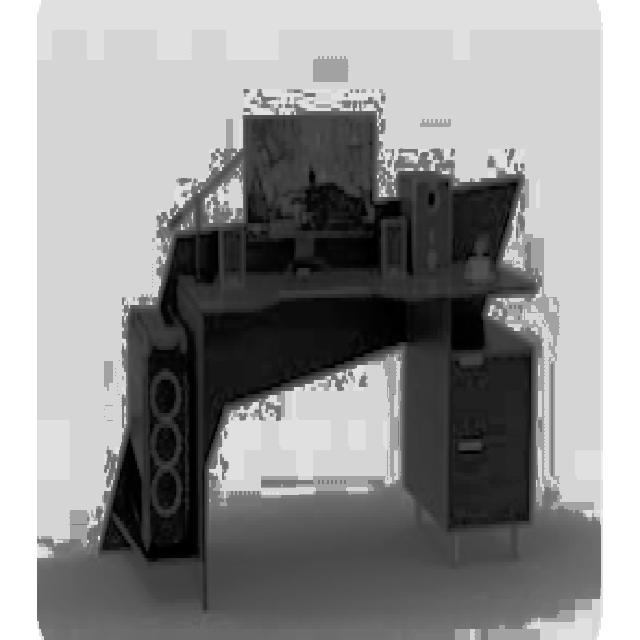table: (172, 257, 535, 610)
